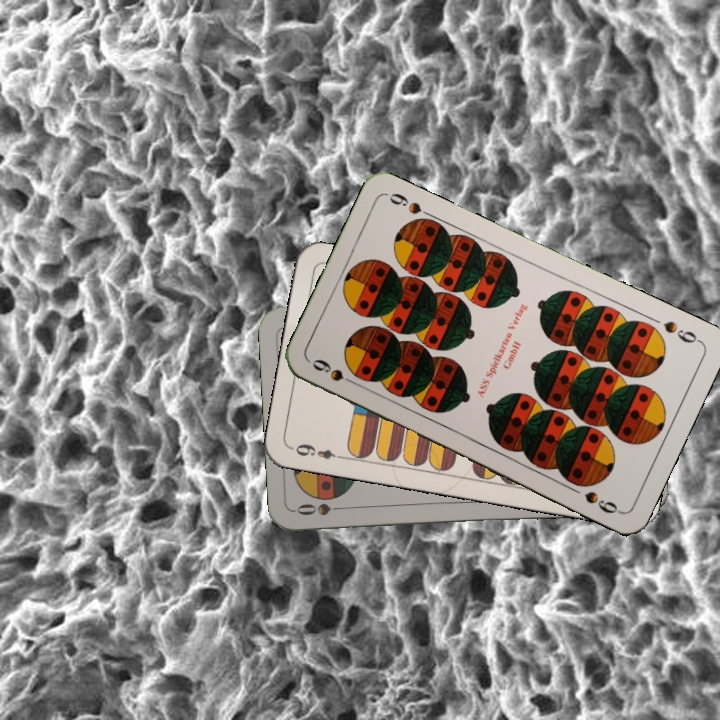E9: (291, 439, 347, 462)
S9: (308, 354, 363, 389), (659, 317, 703, 346)
SO: (293, 499, 352, 518)
